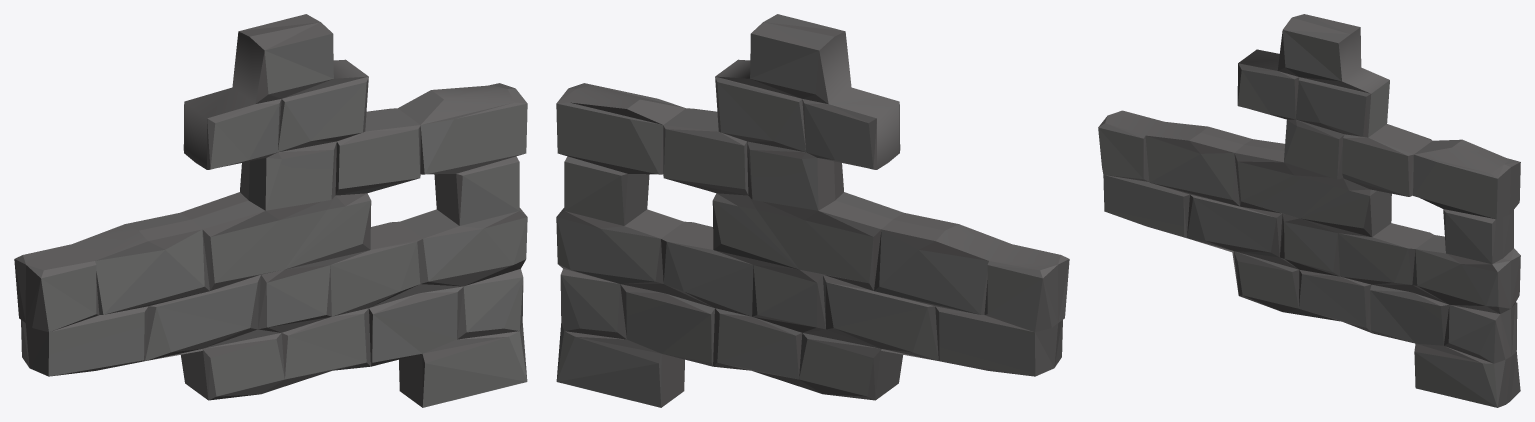
File: SM_Prop_Bricks_01.glb
3 renders of one model, left to right at view 1: azimuth 30°, elevation 25°; view 2: azimuth 150°, elevation 25°; view 3: azimuth 330°, elevation 25°, orthographic. The views are drawn at different scales.
Parts seen in each view (by area): view 1: SM_Prop_Bricks_01; view 2: SM_Prop_Bricks_01; view 3: SM_Prop_Bricks_01.
Boxes of the visible parts, box(x1,y1,x2,y2) form: SM_Prop_Bricks_01: box(14, 14, 527, 407); SM_Prop_Bricks_01: box(556, 14, 1069, 407); SM_Prop_Bricks_01: box(1098, 14, 1520, 407).
Bounding box in the file's own units: 0.0343 × 0.027 × 0.00343.
Materials: 1 (1 with a texture image).
